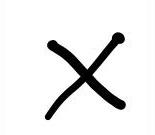mult: (45, 32, 126, 119)
